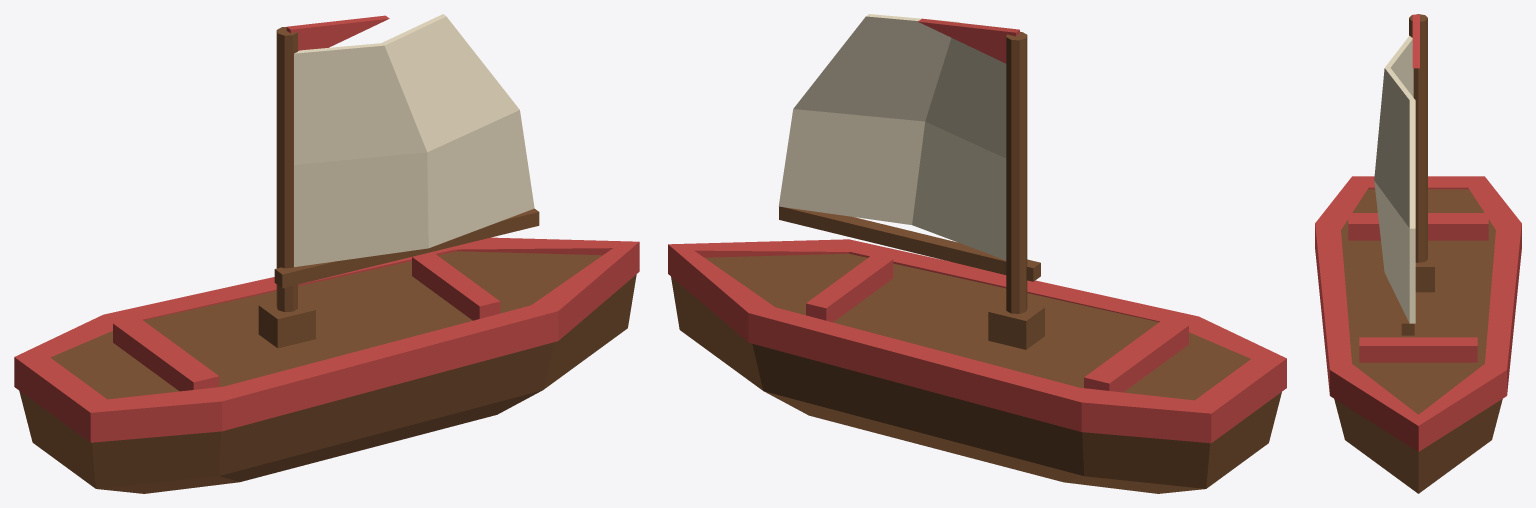
File: ship-pilot.glb
3 renders of one model, left to right at view 1: azimuth 30°, elevation 25°; view 2: azimuth 150°, elevation 25°; view 3: azimuth 270°, elevation 25°, orthographic. The views are drawn at different scales.
Parts seen in each view (by area): view 1: HullWood, CanvasIvory, PlayerColor; view 2: HullWood, PlayerColor, CanvasIvory; view 3: HullWood, PlayerColor, CanvasIvory.
Part boxes in pixels (x1,y1,x2,y2): HullWood: [19, 27, 636, 493]; CanvasIvory: [294, 14, 534, 267]; PlayerColor: [14, 15, 639, 442]; HullWood: [671, 31, 1281, 493]; PlayerColor: [668, 18, 1286, 443]; CanvasIvory: [778, 14, 1006, 260]; HullWood: [1334, 14, 1502, 493]; PlayerColor: [1315, 14, 1521, 451]; CanvasIvory: [1374, 35, 1415, 323].
Size of the model in its own units: 0.8 by 0.535 by 0.28.
